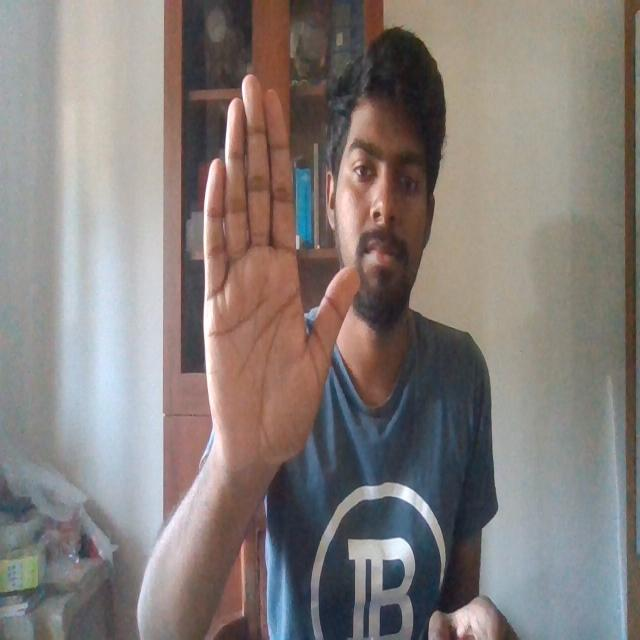Hello: (199, 65, 364, 476)
